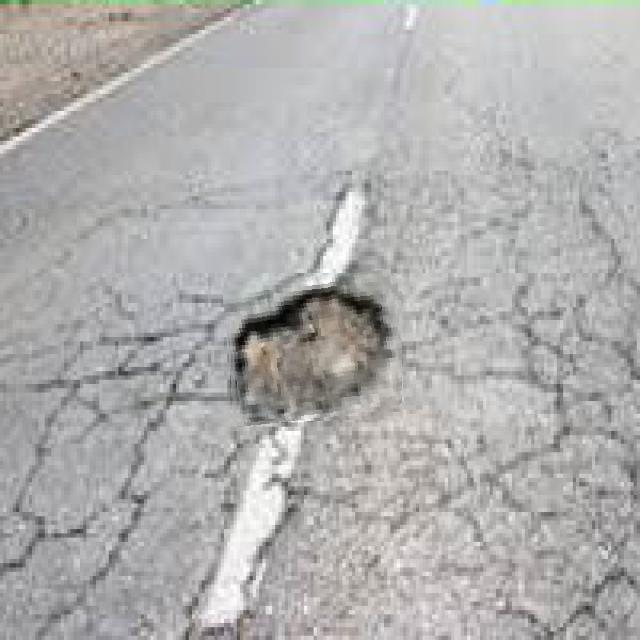Pothole: (226, 273, 402, 422)
